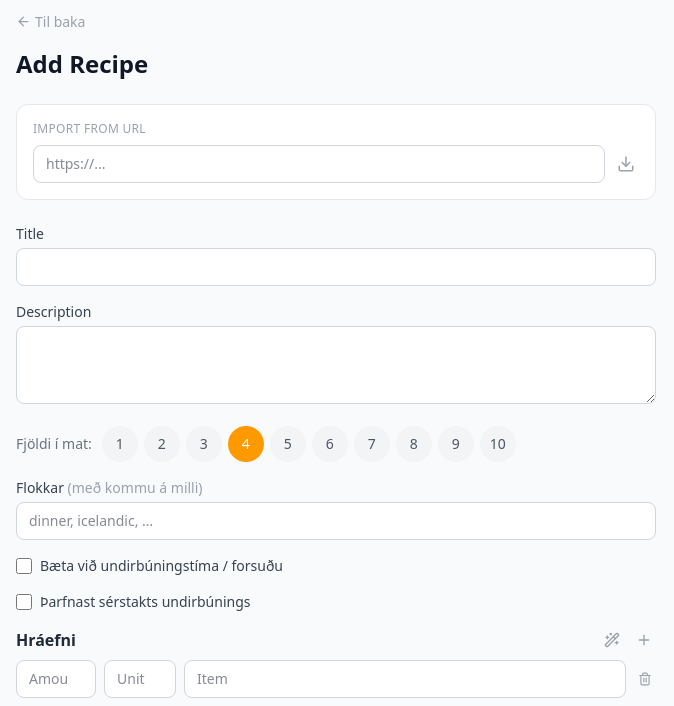
Test: AddRecipeForm › removes an ingredient row when its remove button is clicked
The image size is (674, 706).
Step 1. Click the button named "add ingredient" → point(644, 640), box x1=632 y1=628 x2=656 y2=652
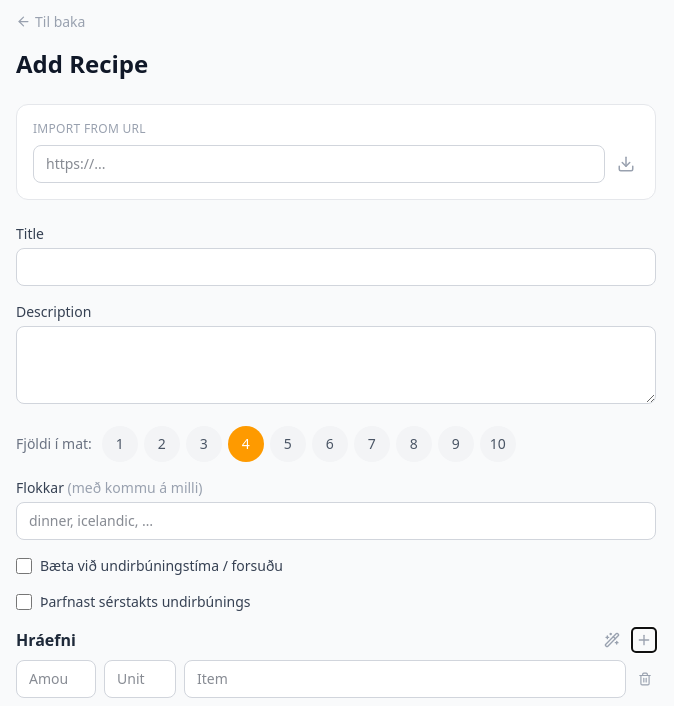
Step 2. Click the 1st button named "remove ingredient" → point(645, 678), box x1=634 y1=668 x2=656 y2=690
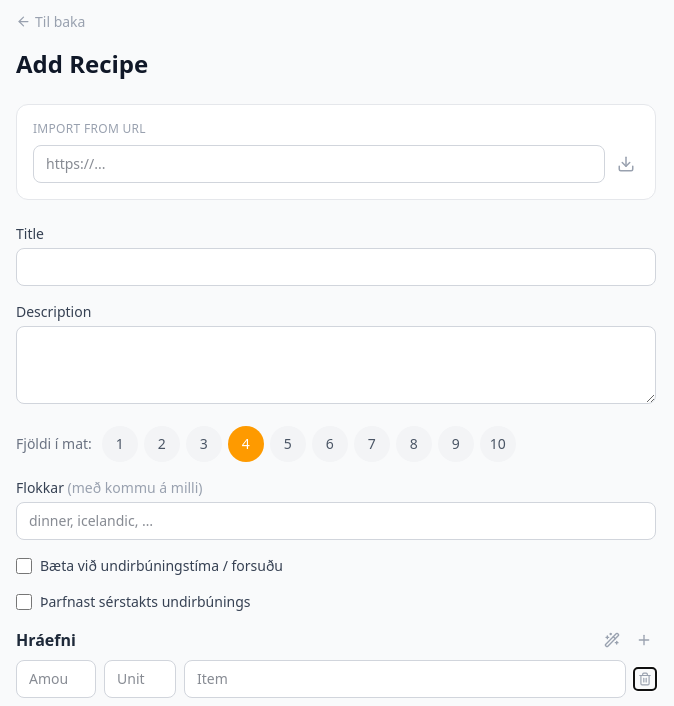
Now the number of fields with placeholder "Item" is 1, box x1=184 y1=660 x2=626 y2=698
